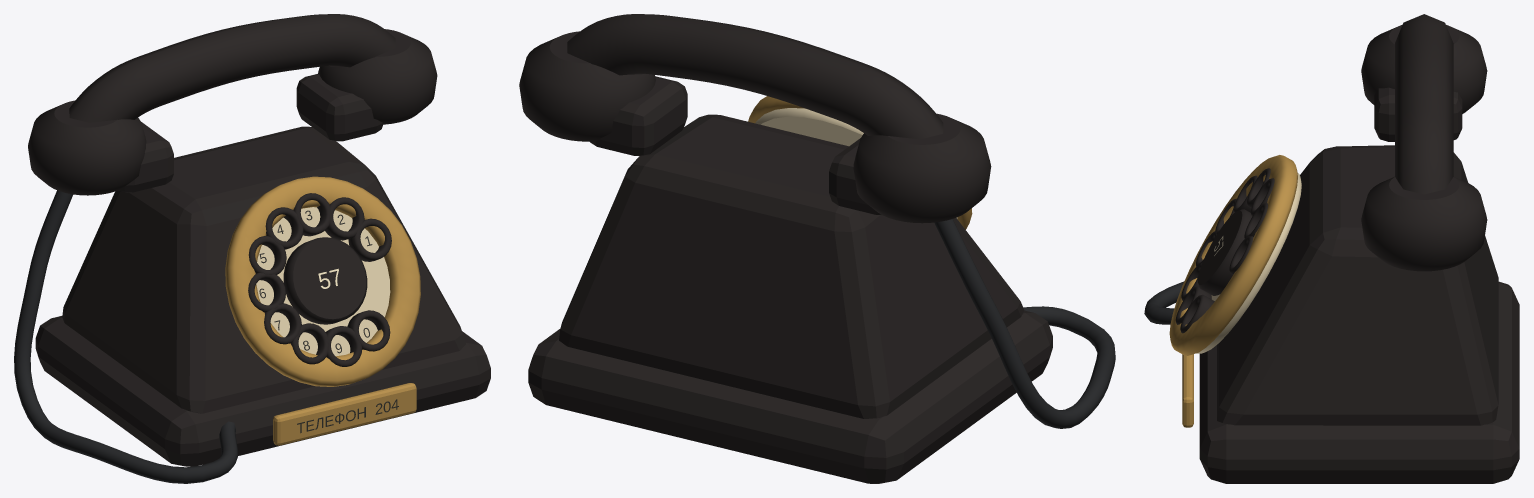
The model's file is RotaryTelephone.fbx.
The picture shows the model from 3 angles, left to right: view 1: azimuth 30°, elevation 25°; view 2: azimuth 150°, elevation 25°; view 3: azimuth 270°, elevation 25°; orthographic projection. The views are drawn at different scales.
Parts seen in each view (by area): view 1: Sloping Bakelite body, Lower plinth, Receiver handle, Dial retaining bezel, Handset lead, Receiver cap, Receiver cap.001, Dial center, Dial number plate, Nameplate 204, Cradle.001, Cradle (+10 smaller); view 2: Sloping Bakelite body, Lower plinth, Receiver handle, Receiver cap, Receiver cap.001, Handset lead, Cradle.001, Dial number plate, Cradle, Dial retaining bezel; view 3: Sloping Bakelite body, Lower plinth, Receiver handle, Receiver cap.001, Dial retaining bezel, Receiver cap, Dial center, Cradle, Dial number plate, Handset lead, Nameplate 204, Finger opening 0 (+2 smaller).
Boxes of the visible parts, bbox=[...] form: Sloping Bakelite body: bbox=[62, 126, 465, 413]; Lower plinth: bbox=[35, 316, 490, 466]; Receiver handle: bbox=[69, 14, 395, 122]; Dial retaining bezel: bbox=[225, 176, 420, 386]; Handset lead: bbox=[14, 190, 237, 483]; Receiver cap: bbox=[28, 100, 146, 195]; Receiver cap.001: bbox=[318, 29, 437, 124]; Dial center: bbox=[283, 237, 367, 324]; Dial number plate: bbox=[256, 207, 390, 356]; Nameplate 204: bbox=[273, 383, 416, 445]; Cradle.001: bbox=[296, 74, 383, 141]; Cradle: bbox=[118, 122, 173, 192]; Sloping Bakelite body: bbox=[559, 114, 1024, 418]; Lower plinth: bbox=[528, 310, 1052, 483]; Receiver handle: bbox=[567, 14, 943, 139]; Receiver cap: bbox=[853, 113, 991, 223]; Receiver cap.001: bbox=[519, 31, 655, 141]; Handset lead: bbox=[934, 219, 1115, 428]; Cradle.001: bbox=[590, 76, 687, 155]; Dial number plate: bbox=[755, 108, 957, 218]; Cradle: bbox=[829, 138, 881, 215]; Dial retaining bezel: bbox=[748, 96, 972, 229]; Sloping Bakelite body: bbox=[1217, 145, 1498, 425]; Lower plinth: bbox=[1199, 281, 1519, 483]; Receiver handle: bbox=[1395, 14, 1453, 194]; Receiver cap.001: bbox=[1361, 176, 1487, 271]; Dial retaining bezel: bbox=[1169, 155, 1297, 355]; Receiver cap: bbox=[1361, 24, 1487, 113]; Dial center: bbox=[1198, 209, 1252, 295]; Cradle: bbox=[1374, 87, 1462, 141]; Dial number plate: bbox=[1196, 172, 1301, 353]; Handset lead: bbox=[1144, 281, 1184, 324]; Nameplate 204: bbox=[1182, 354, 1193, 427]; Finger opening 0: bbox=[1180, 294, 1214, 333].
Size of the model in its own units: 0.3603 by 0.2647 by 0.2558.
